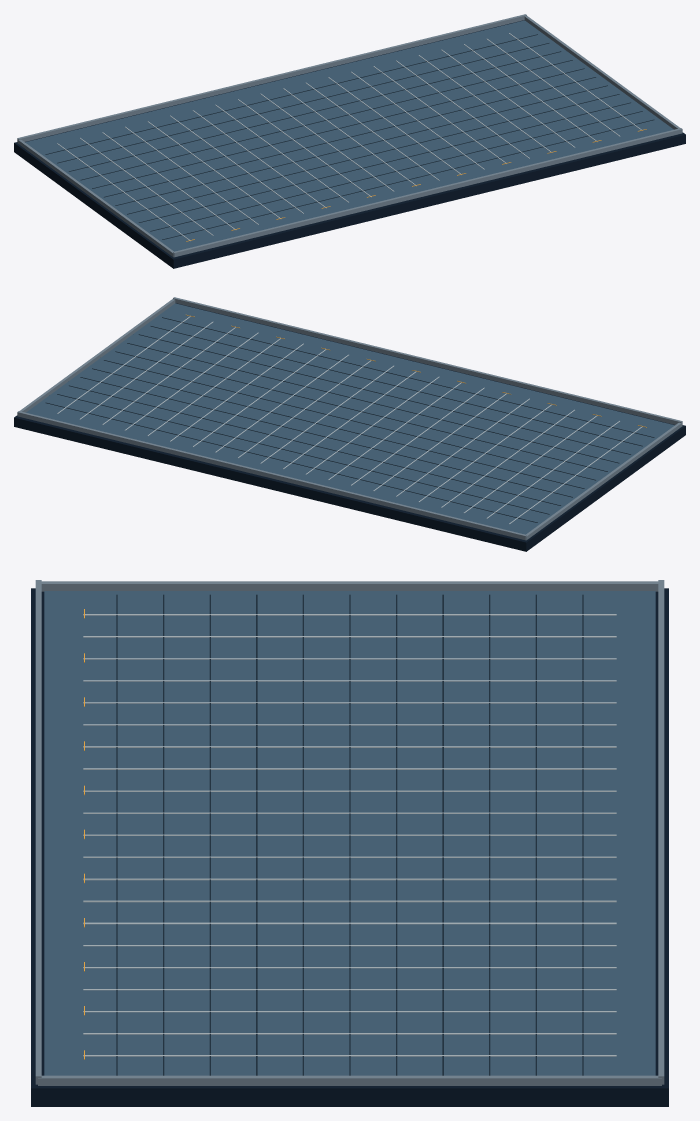
Rendered from 00_L82_BlackstarEMCChamberBase.fbx.
3 renders of one model, top to bottom at view 1: azimuth 30°, elevation 25°; view 2: azimuth 150°, elevation 25°; view 3: azimuth 270°, elevation 25°, orthographic. The views are drawn at different scales.
Parts seen in each view (by area): view 1: BlackstarEMCChamberBase; view 2: BlackstarEMCChamberBase; view 3: BlackstarEMCChamberBase.
Part boxes in pixels (x1,y1,x2,y2): BlackstarEMCChamberBase: (14, 14, 685, 268); BlackstarEMCChamberBase: (14, 297, 685, 551); BlackstarEMCChamberBase: (31, 580, 668, 1106).
Size of the model in its own units: 2540 by 68 by 1370.
